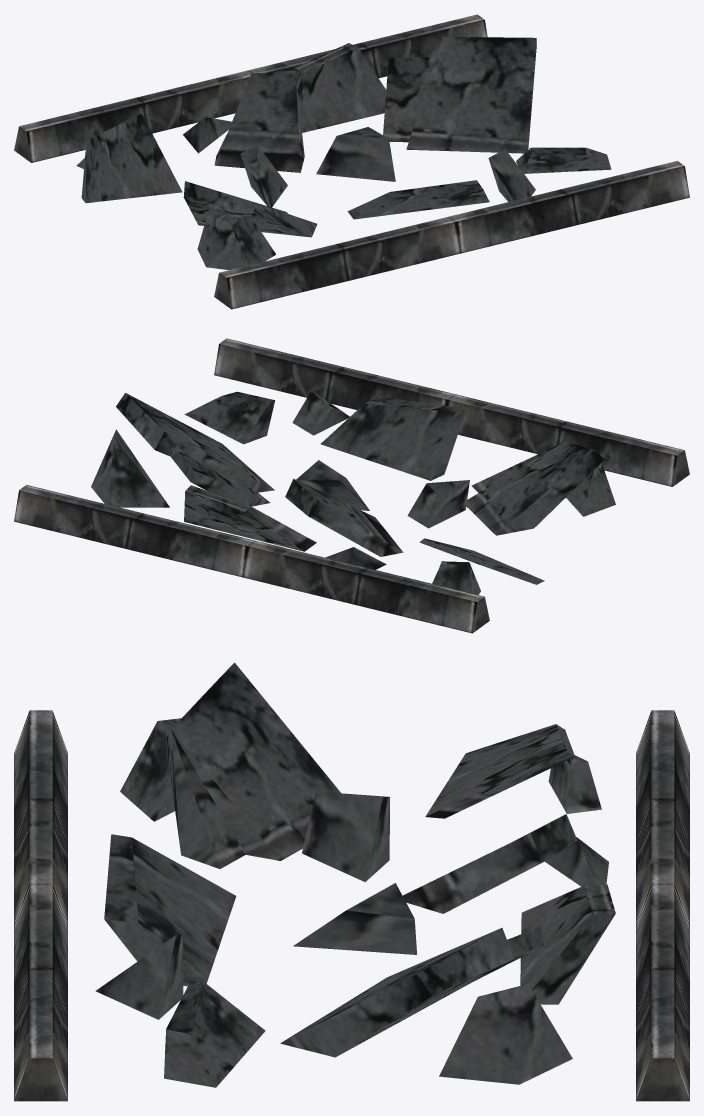
File: bridge_dam_hdtex.glb
3 views of the same model, one above another, from view 1: azimuth 30°, elevation 25°; view 2: azimuth 150°, elevation 25°; view 3: azimuth 270°, elevation 25° (orthographic). The views are drawn at different scales.
Visible parts, largest first — view 1: Object01; view 2: Object01; view 3: Object01.
Boxes of the visible parts, x1,y1,x2,y2 form: Object01: (14,14,689,309); Object01: (14,338,689,633); Object01: (14,662,689,1101).
Size of the model in its own units: 25.63 by 3.77 by 21.03.
Materials: 1 (1 with a texture image).
